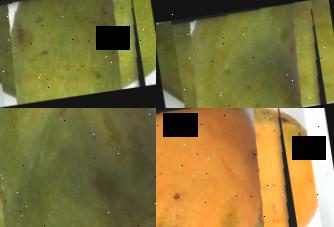Ripe: (156, 108, 303, 227)
Unripe: (0, 108, 156, 227), (171, 0, 326, 108), (0, 0, 145, 106)
